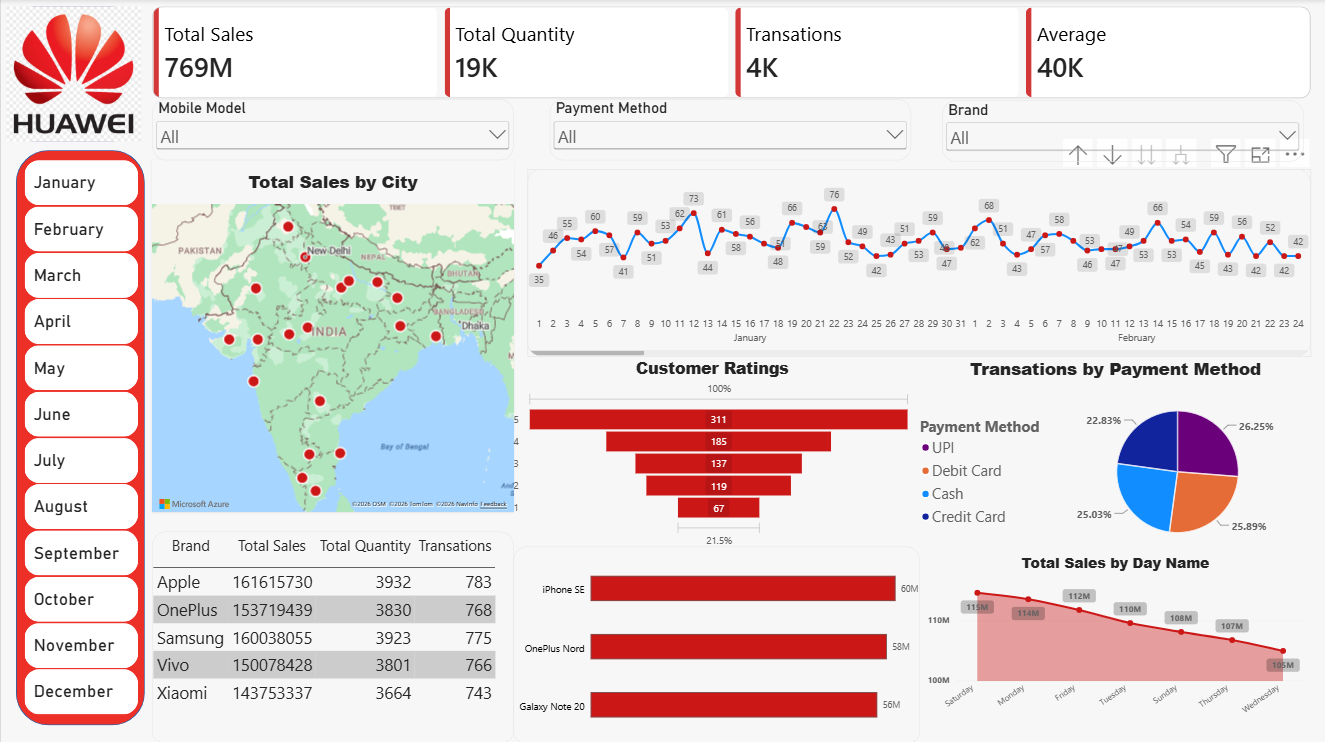

What the dashboard file says about the page in this screenshot:
{"tool":"powerbi","page":{"name":"Page 1","canvas":[1920,1080],"ordinal":0},"visuals":[{"type":"shape","box":[9,10.9,190,195.4],"z":0},{"type":"image","box":[5.4,10.9,199.1,195.4],"z":1000},{"type":"shape","box":[21.7,219,186.4,832.4],"z":2000},{"type":"advancedSlicerVisual","fields":{"Values":["Sheet1.Date.Variation.Date Hierarchy.Month"]},"box":[34.4,233.4,164.7,805.3],"z":3000},{"type":"cardVisual","fields":{"Data":["Sales Data.Total Sales","Sales Data.Total Quantity","Sales Data.Transations","Sales_Data.Average"]},"box":[219,10.9,1677.6,133.9],"z":4000},{"type":"azureMap","fields":{"Category":["Sales_Data.City"]},"box":[219,233.4,523,508.5],"z":5000},{"type":"actionButton","box":[0,0,100,40],"z":6000},{"type":"lineChart","fields":{"Category":["Sales_Data.Date.Variation.Date Hierarchy.Month","Sales_Data.Date.Variation.Date Hierarchy.Day"],"Y":["Sales_Data.Total Quantity"]},"box":[761.9,246.1,1134.7,271.4],"z":7000},{"type":"clusteredBarChart","fields":{"Category":["Sales_Data.Mobile Model"],"Y":["Sales_Data.Total Sales"]},"box":[742,792.6,588.1,287.7],"z":8000},{"type":"pieChart","fields":{"Category":["Sales_Data.Payment Method"],"Y":["Sales_Data.Transations"]},"box":[1330.1,517.6,566.4,284.1],"z":9000},{"type":"funnel","title":" Customer Ratings","fields":{"Category":["Sales_Data.Customer Ratings"],"Y":["CountNonNull(Sales_Data.Customer Ratings)"]},"box":[742,517.6,575.5,275.1],"z":10000},{"type":"areaChart","fields":{"Category":["Sales_Data.Day Name"],"Y":["Sales_Data.Total Sales"]},"box":[1341,801.7,544.7,249.7],"z":11000},{"type":"tableEx","fields":{"Values":["Sales_Data.Brand","Sales_Data.Total Sales","Sales_Data.Total Quantity","Sales_Data.Transations"]},"box":[219,770.9,522.8,308.7],"z":12000},{"type":"slicer","fields":{"Values":["Sales_Data.Mobile Model"]},"box":[219,144.8,523,88.7],"z":13000},{"type":"slicer","fields":{"Values":["Sales_Data.Payment Method"]},"box":[794.4,144.8,523,88.7],"z":14000},{"type":"slicer","fields":{"Values":["Sales_Data.Brand"]},"box":[1362.7,146.6,523,88.7],"z":15000}]}

Visuals, with their boxes in screenshot pixels (x1, y1, x2, y2), scaled from the page's 1920x1080 canvas onto the 1325x742 screenshot:
shape: {"x1": 6, "y1": 7, "x2": 137, "y2": 142}
image: {"x1": 4, "y1": 7, "x2": 141, "y2": 142}
shape: {"x1": 15, "y1": 150, "x2": 144, "y2": 722}
advancedSlicerVisual - Sheet1.Date.Variation.Date Hierarchy.Month: {"x1": 24, "y1": 160, "x2": 137, "y2": 714}
cardVisual - Sales Data.Total Sales x Sales Data.Total Quantity: {"x1": 151, "y1": 7, "x2": 1309, "y2": 99}
azureMap - Sales_Data.City: {"x1": 151, "y1": 160, "x2": 512, "y2": 510}
actionButton: {"x1": 0, "y1": 0, "x2": 69, "y2": 27}
lineChart - Sales_Data.Date.Variation.Date Hierarchy.Month x Sales_Data.Date.Variation.Date Hierarchy.Day: {"x1": 526, "y1": 169, "x2": 1309, "y2": 356}
clusteredBarChart - Sales_Data.Mobile Model x Sales_Data.Total Sales: {"x1": 512, "y1": 545, "x2": 918, "y2": 741}
pieChart - Sales_Data.Payment Method x Sales_Data.Transations: {"x1": 918, "y1": 356, "x2": 1309, "y2": 551}
" Customer Ratings" funnel: {"x1": 512, "y1": 356, "x2": 909, "y2": 545}
areaChart - Sales_Data.Day Name x Sales_Data.Total Sales: {"x1": 925, "y1": 551, "x2": 1301, "y2": 722}
tableEx - Sales_Data.Brand x Sales_Data.Total Sales: {"x1": 151, "y1": 530, "x2": 512, "y2": 741}
slicer - Sales_Data.Mobile Model: {"x1": 151, "y1": 99, "x2": 512, "y2": 160}
slicer - Sales_Data.Payment Method: {"x1": 548, "y1": 99, "x2": 909, "y2": 160}
slicer - Sales_Data.Brand: {"x1": 940, "y1": 101, "x2": 1301, "y2": 162}
